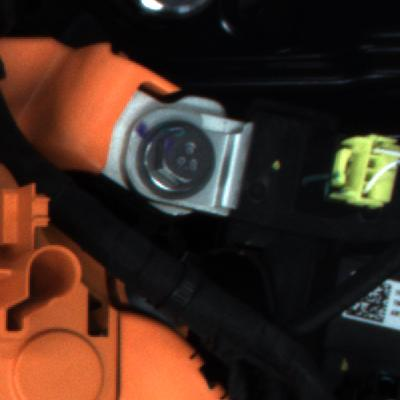nut_b: (132, 115, 224, 206)
